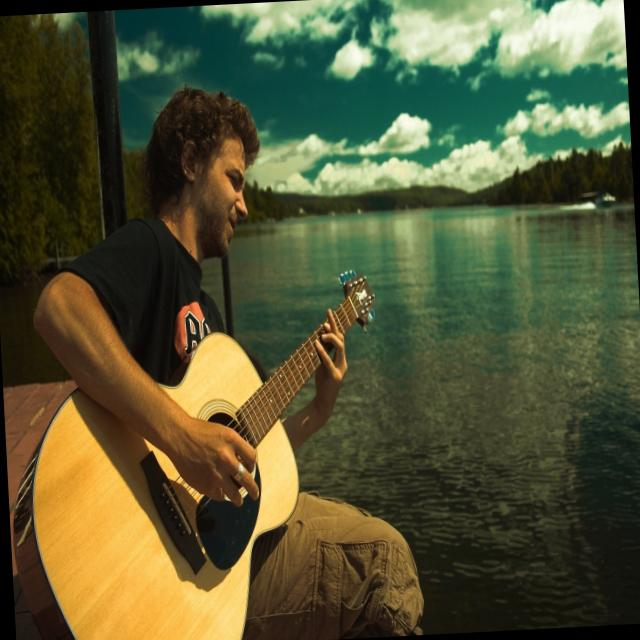guitar: (0, 262, 391, 640)
